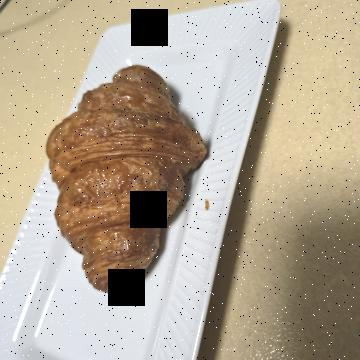croissant: (53, 146, 302, 334)
